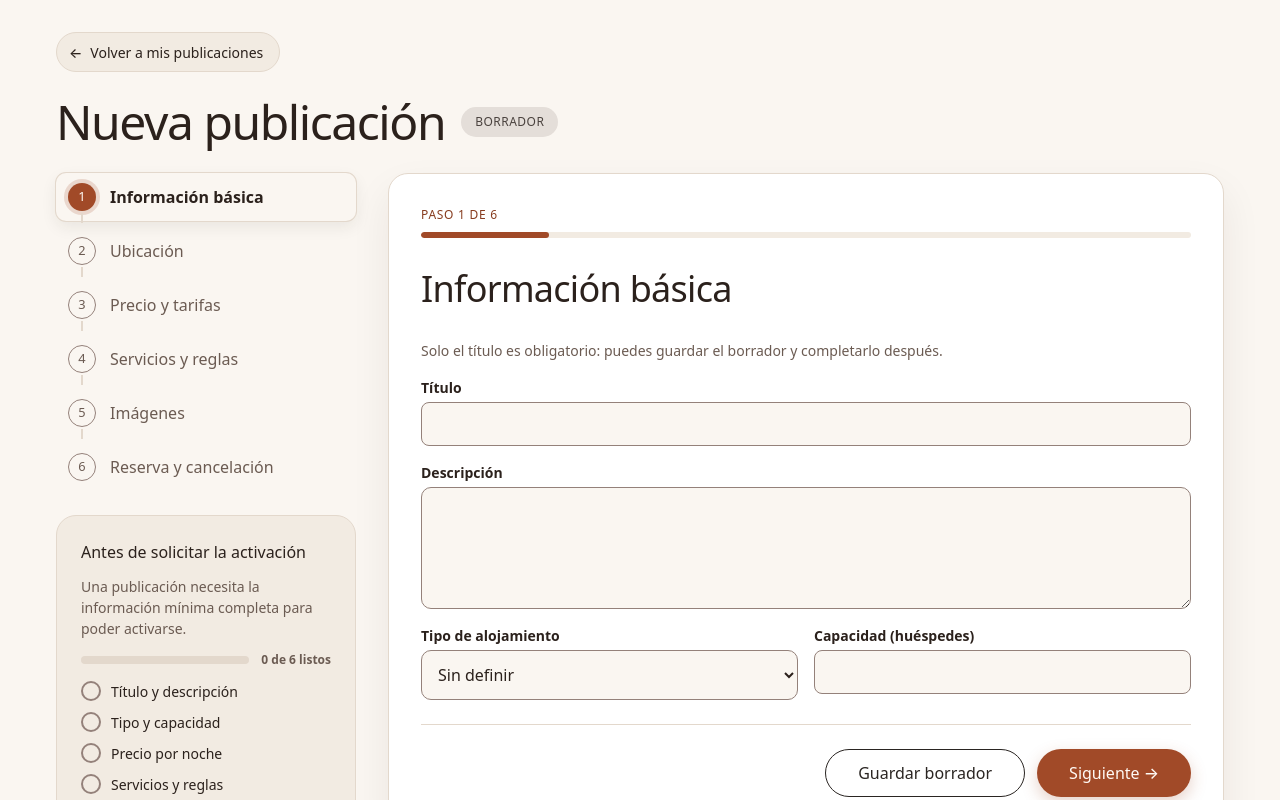
Test: PublicacionFormPage › «Siguiente» al crear guarda el borrador y sigue al paso siguiente
In the field labelled "Título": (806, 424) [421,402,1191,446], type "Casa"
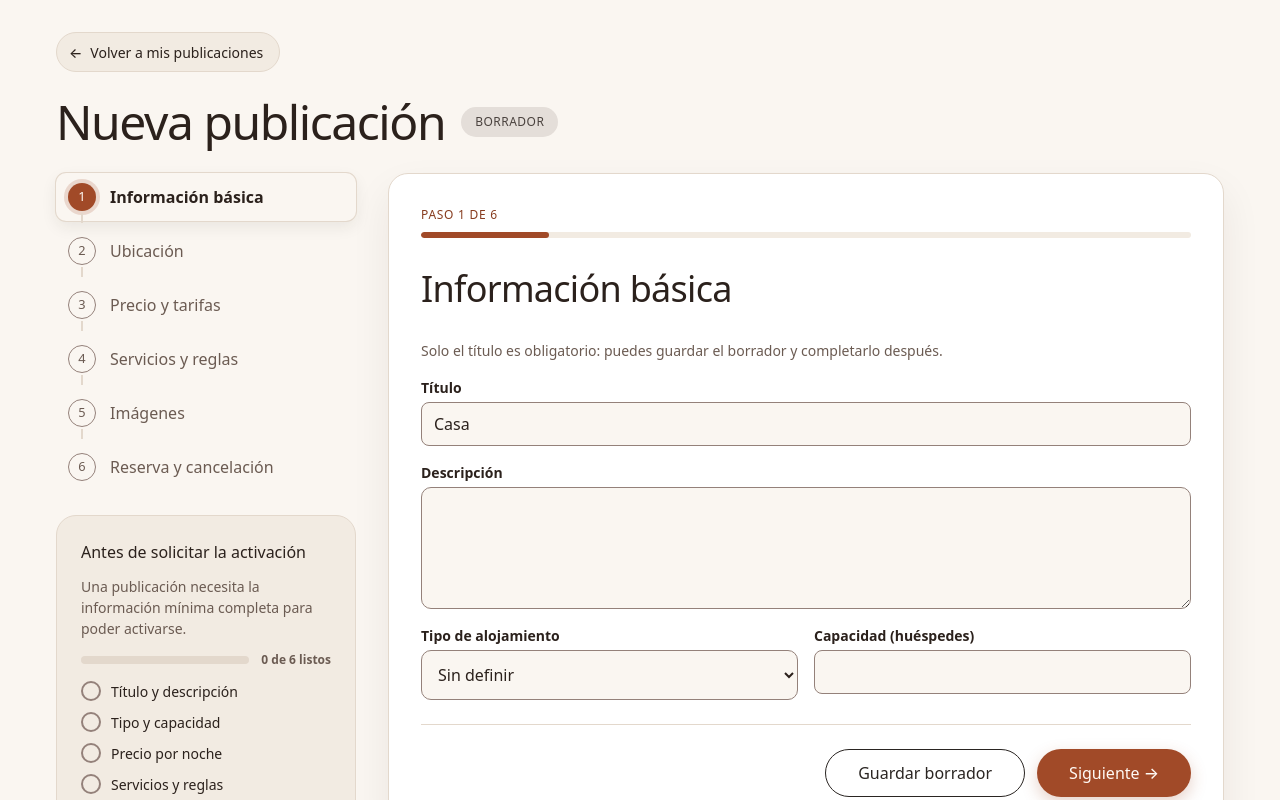
Click the button "Siguiente →": (1114, 773) [1037,749,1191,797]
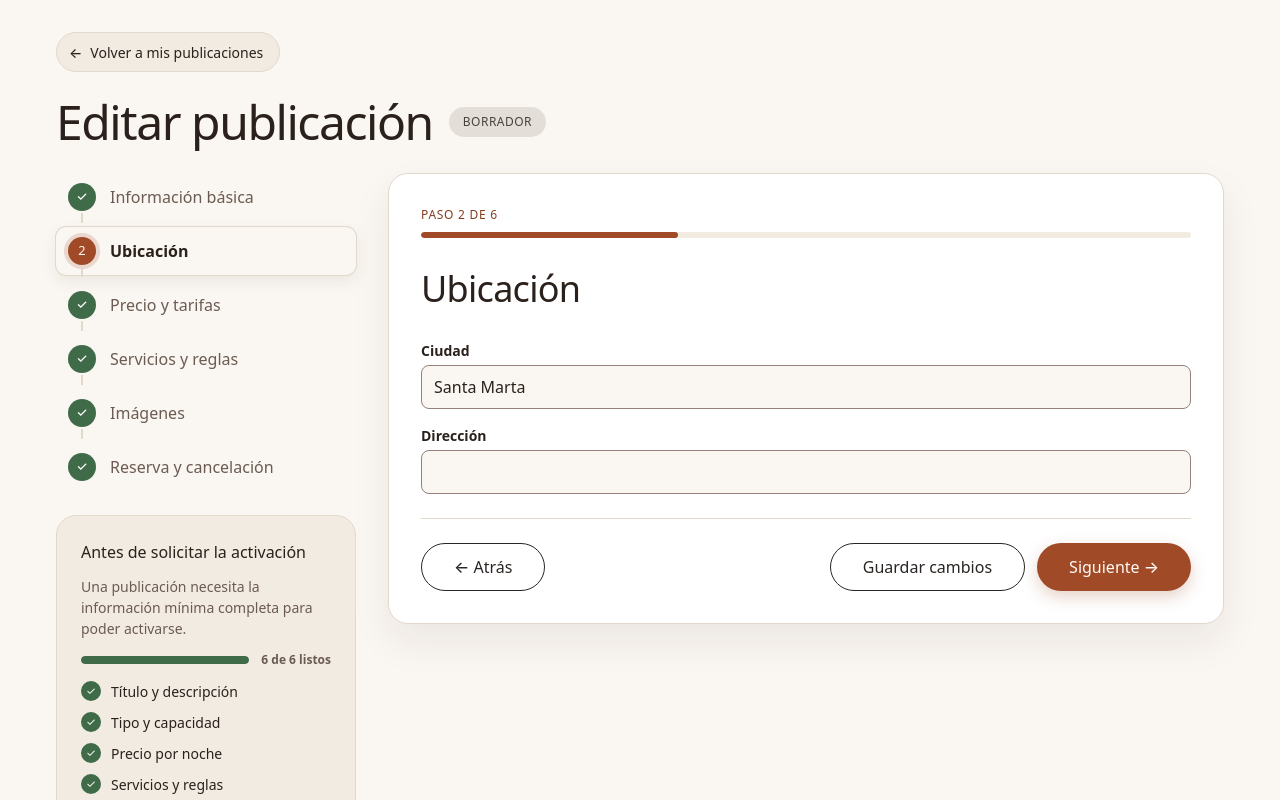
Now the text "PASO 2 DE 6" is shown, box [421,206,498,223]
